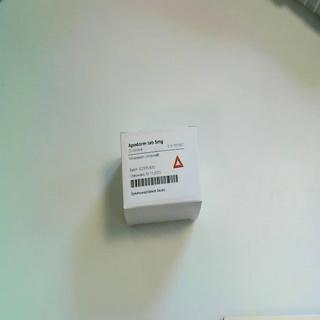apodorm5mg: (120, 123, 205, 229)
